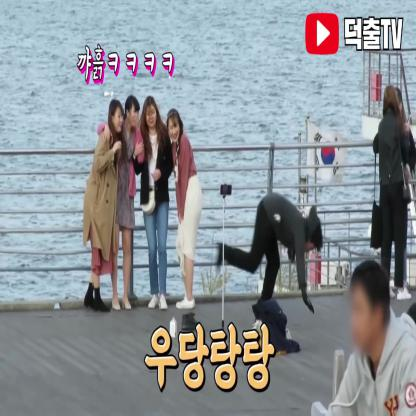Fall_Down: (214, 189, 325, 331)
